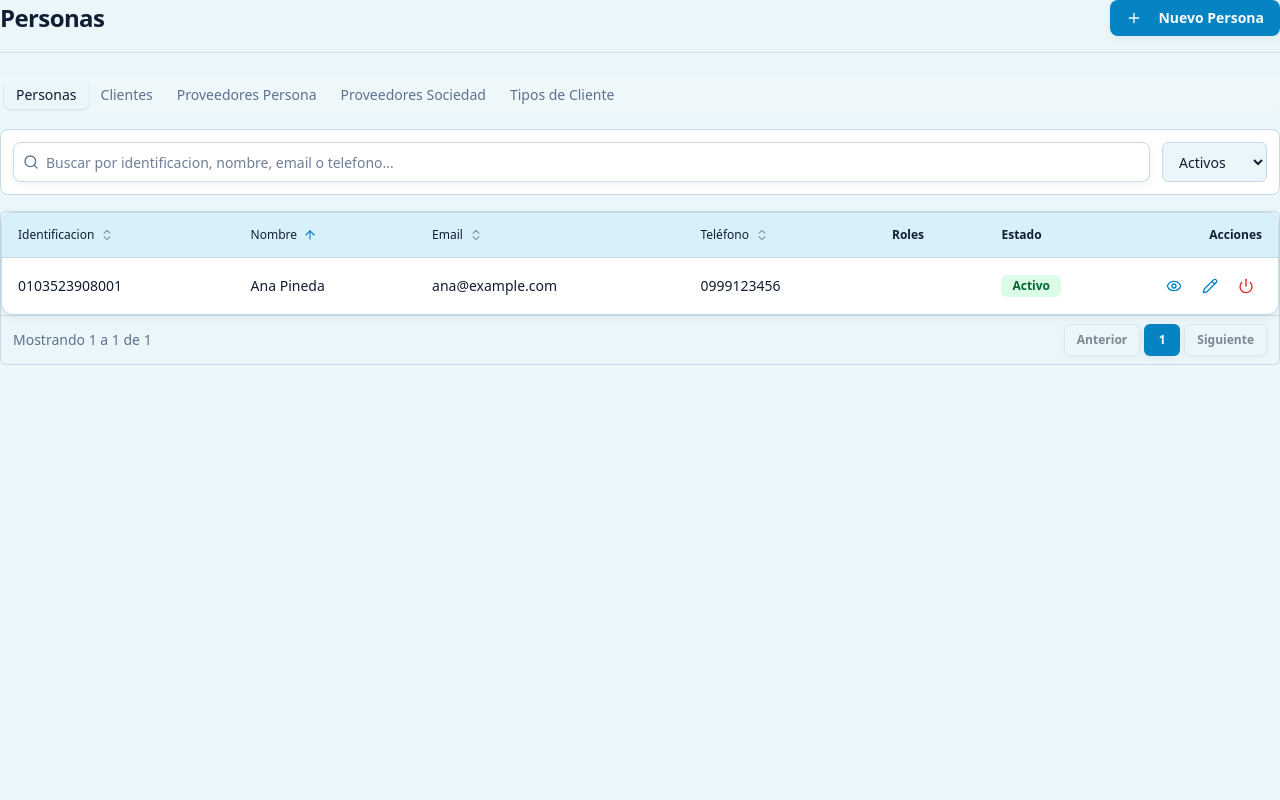
Scenario: PersonasPage › refresca dependencias si aparecen despues y el backend rechaza con 409
The image size is (1280, 800).
Click the button named "Desactivar persona Ana Pineda": [1246, 286] box [1230,270,1262,302]
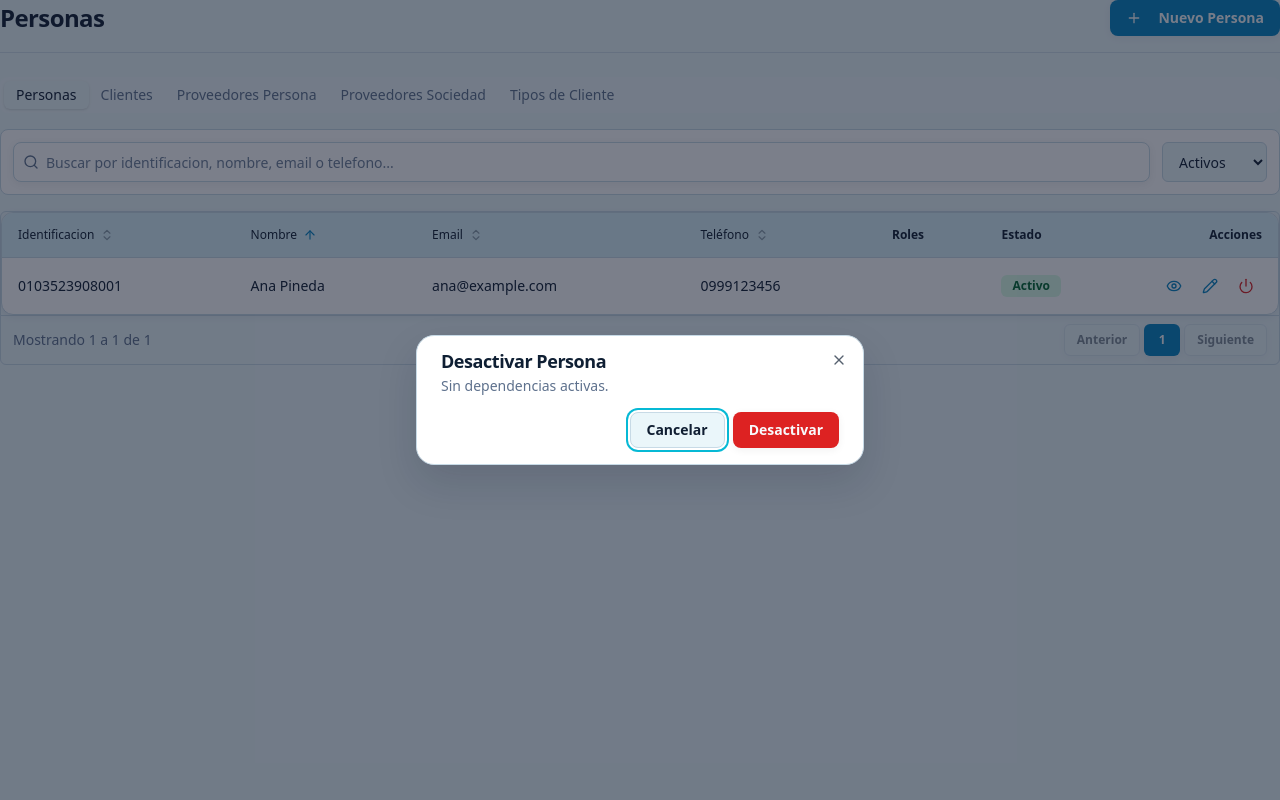
expect the button "Desactivar" is enabled: met
Click the button "Desactivar": [786, 430] box [733,412,839,448]
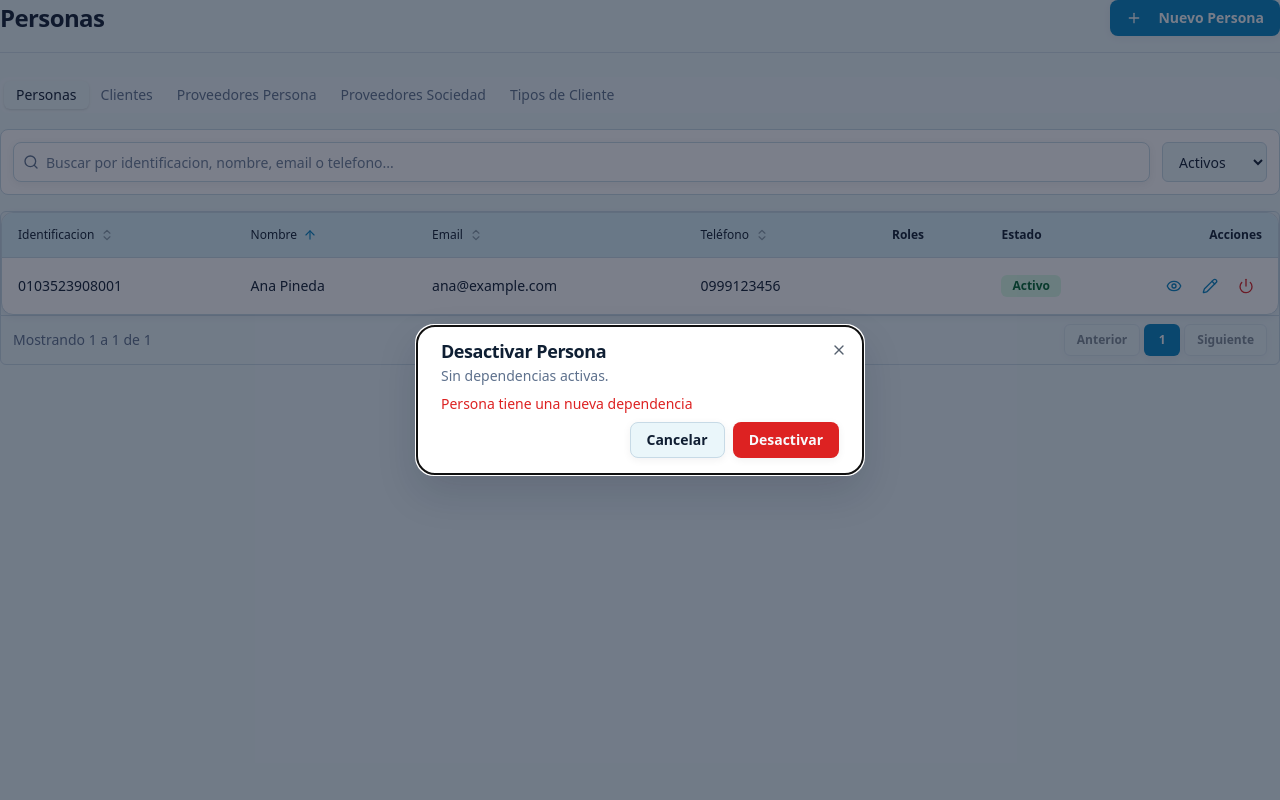
expect the message shows "nueva dependencia": met, box [441,394,693,413]
